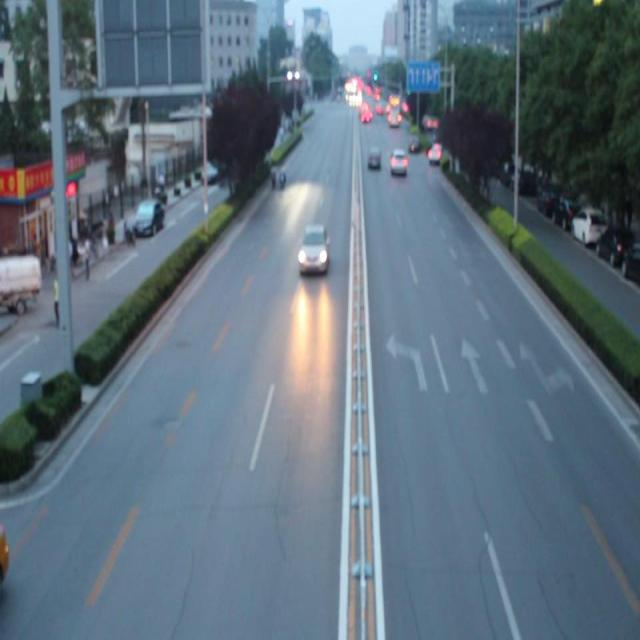car: (297, 227, 330, 274)
